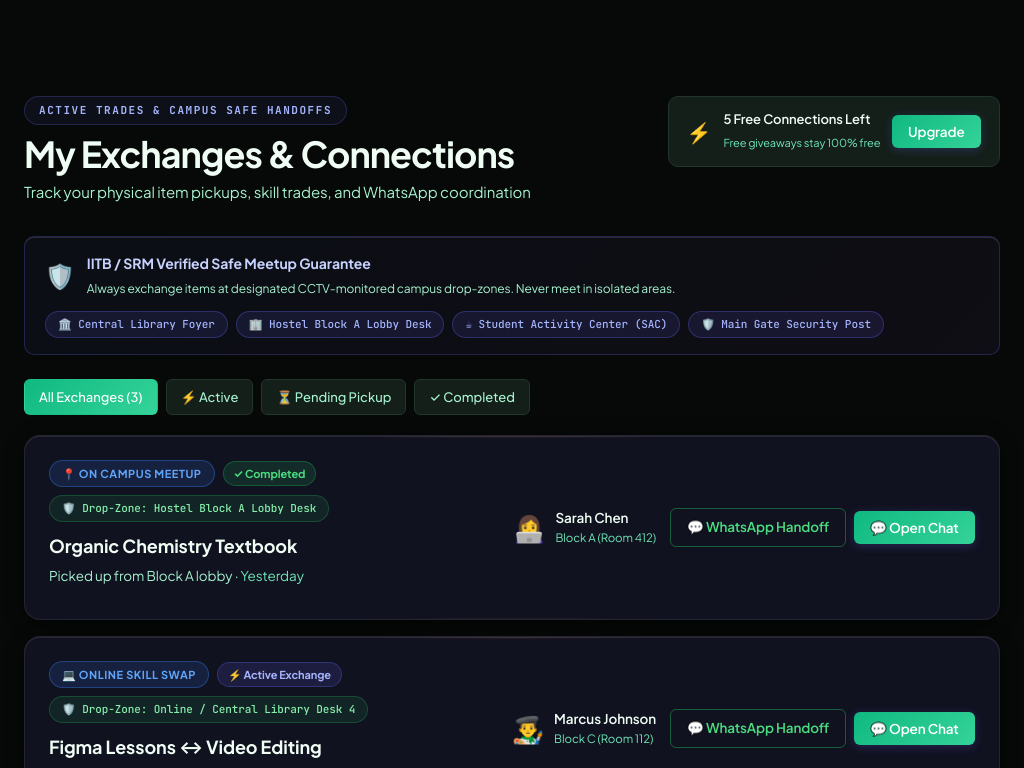
Scenario: Exchanges Page Integration Suite › opens upgrade payment modal when clicking Upgrade button
Click the button "Upgrade" at x=937, y=132, box [892, 115, 981, 148]
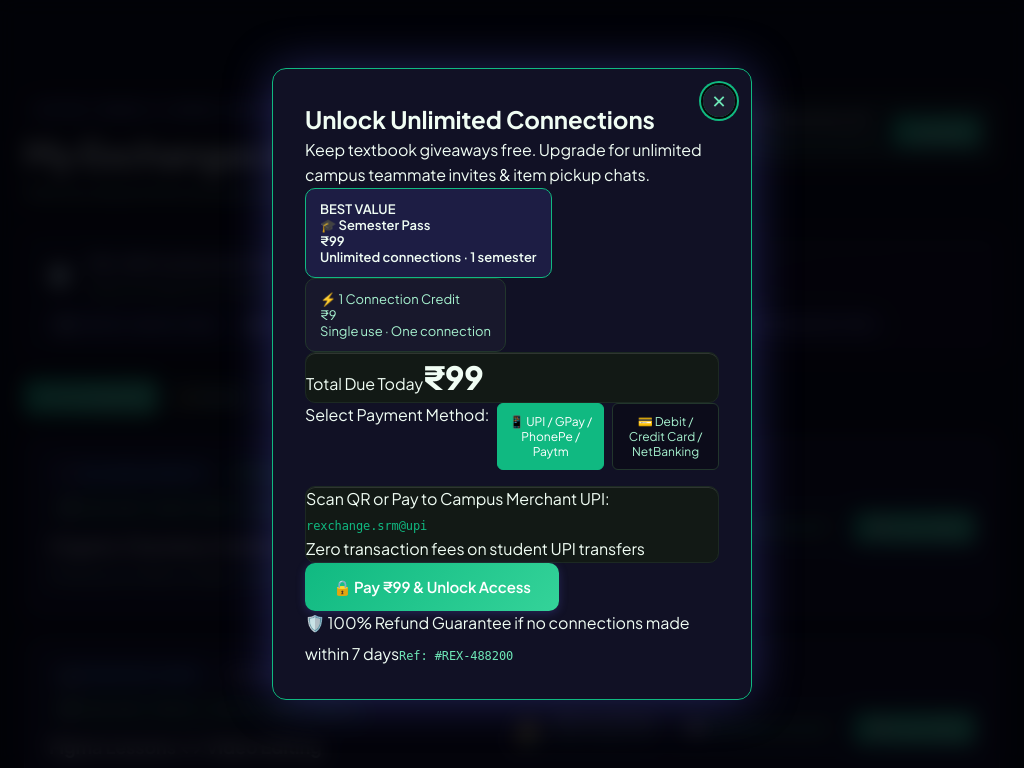
Expected: the heading "Unlock Unlimited Connections" is shown, [305, 104, 655, 134]
